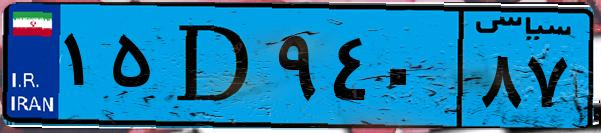0: (385, 28, 445, 110)
1: (57, 26, 110, 100)
4: (330, 28, 385, 110)
5: (110, 28, 158, 98)
7: (525, 38, 570, 115)
8: (475, 38, 525, 113)
9: (270, 28, 330, 110)
D: (158, 12, 270, 120)
